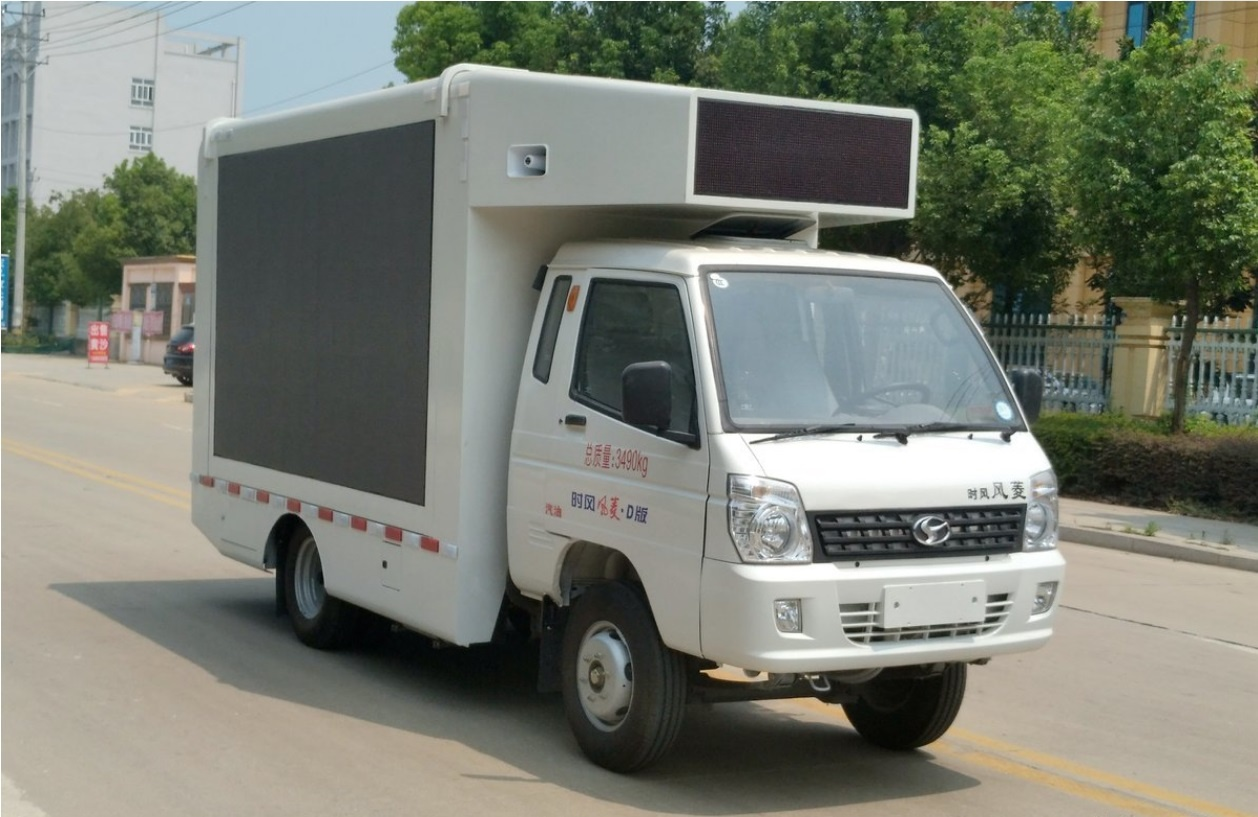truck: (176, 54, 1061, 780)
